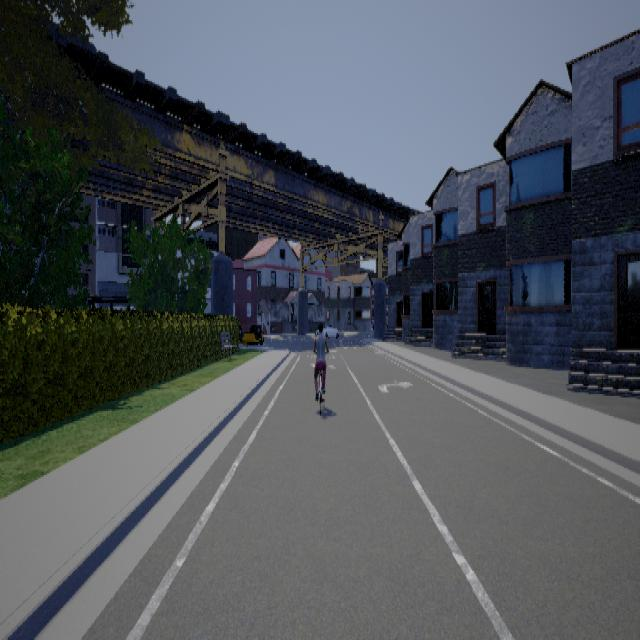bike: (311, 320, 333, 418)
vehicle: (240, 324, 265, 346)
